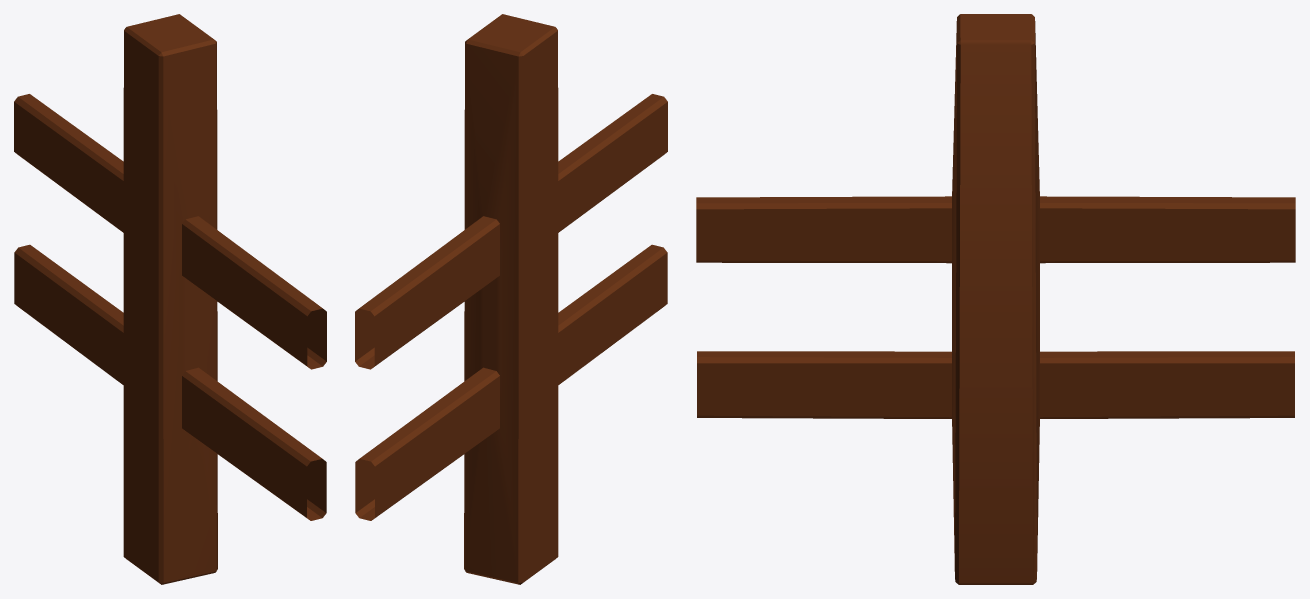
File: P_Fence.fbx
The picture shows the model from 3 angles, left to right: view 1: azimuth 30°, elevation 25°; view 2: azimuth 150°, elevation 25°; view 3: azimuth 270°, elevation 25°; orthographic projection. The views are drawn at different scales.
Parts seen in each view (by area): view 1: fence; view 2: fence; view 3: fence.
Boxes of the visible parts, bbox=[...] form: fence: bbox=[14, 14, 326, 584]; fence: bbox=[355, 14, 667, 584]; fence: bbox=[696, 14, 1295, 584].
Bounding box in the file's own units: 11.49 × 99.72 × 99.5.
